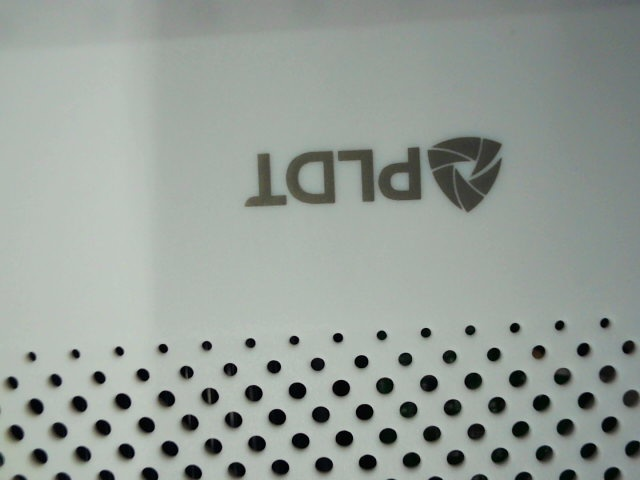BH_PLDT: (227, 127, 526, 225)
